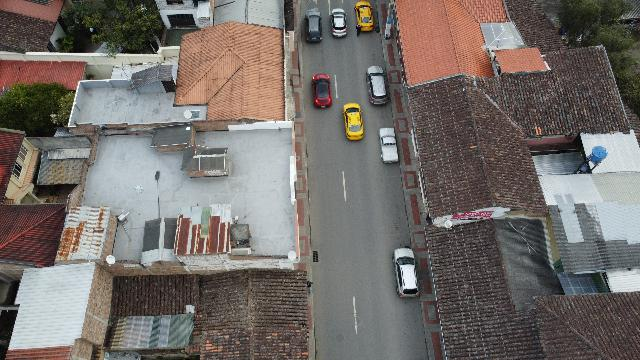Vehiculo: (392, 248, 420, 298), (366, 66, 389, 106), (343, 103, 363, 141), (378, 128, 398, 162), (312, 74, 332, 108), (354, 1, 374, 31), (306, 8, 322, 42), (330, 8, 348, 38)
